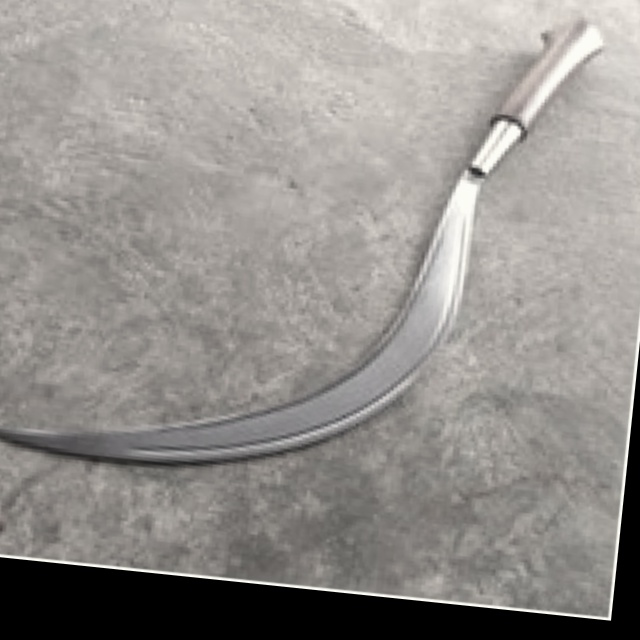Sharp-Object: (0, 0, 616, 511)
